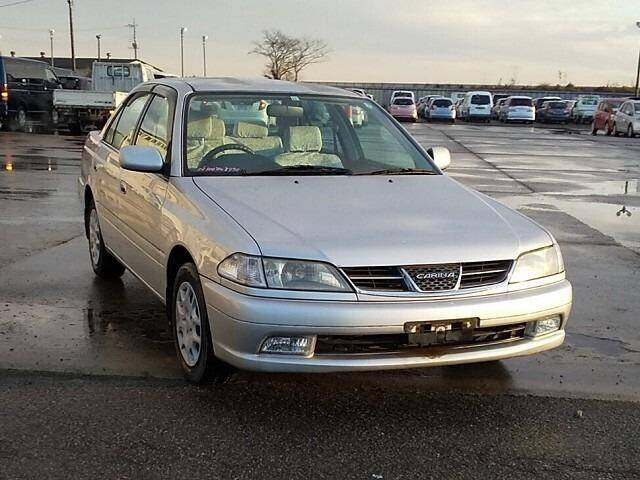car: (74, 74, 577, 391), (51, 56, 158, 136), (595, 97, 632, 137), (497, 95, 538, 129), (460, 88, 495, 122), (538, 96, 574, 124), (423, 97, 458, 124), (387, 95, 419, 121), (574, 95, 602, 122)
